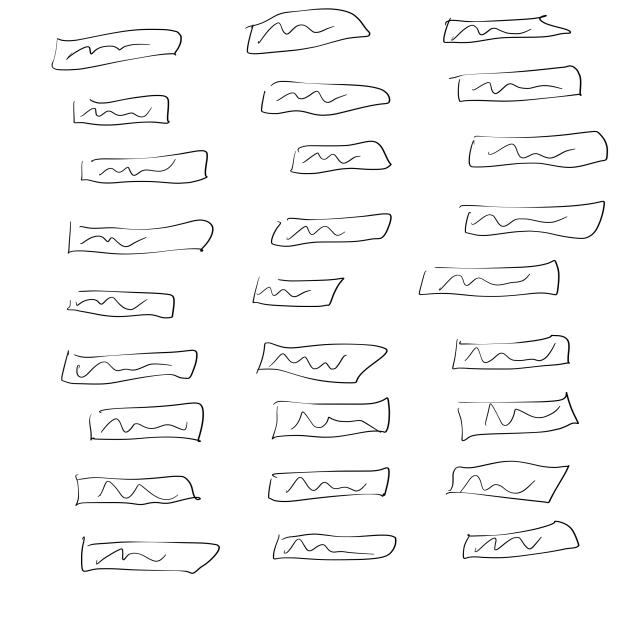Text: (62, 528, 230, 584), (231, 0, 380, 63), (41, 21, 199, 76), (52, 215, 233, 261), (432, 454, 582, 509), (457, 128, 621, 178), (452, 195, 612, 246), (242, 336, 388, 389), (242, 208, 414, 251), (69, 146, 222, 193), (440, 331, 592, 378), (438, 394, 590, 441), (83, 399, 225, 449), (274, 129, 408, 181), (252, 72, 396, 120), (439, 63, 592, 107), (452, 518, 608, 560), (431, 10, 583, 53), (45, 347, 204, 388), (264, 525, 396, 574), (406, 258, 567, 297), (260, 398, 399, 442), (67, 469, 210, 511), (254, 466, 408, 502), (54, 283, 192, 322), (247, 274, 355, 316), (61, 92, 180, 130)
